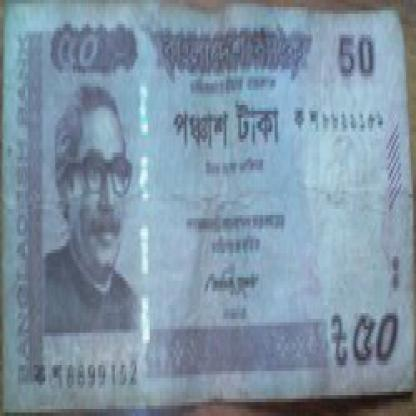Fifty taka: (344, 305, 406, 378), (43, 20, 102, 86)
